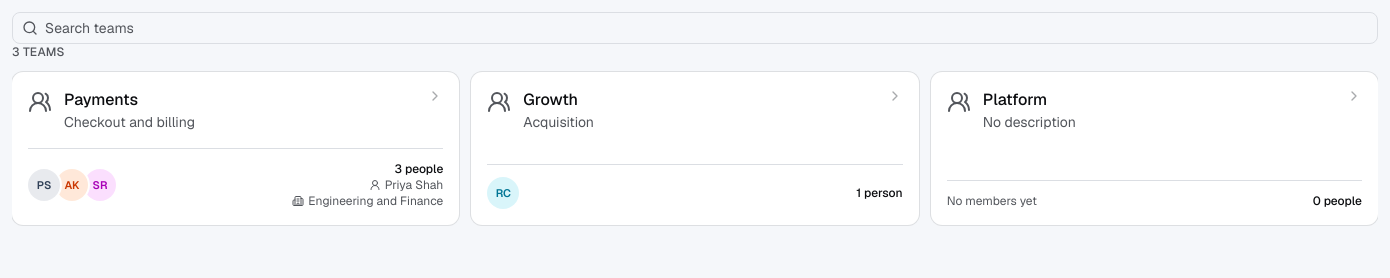
Test case: TeamsDirectory › shows the member count and handles no matches
The width and height of the screenshot is (1390, 278).
Expected: the text "3 people" is shown, top-left (394, 161), bottom-right (443, 177)
Expected: the text "1 person" is shown, top-left (856, 185), bottom-right (903, 201)
Type "zzz" into the search field labelled "Search teams" at (695, 28), box top-left (12, 12), bottom-right (1378, 44)
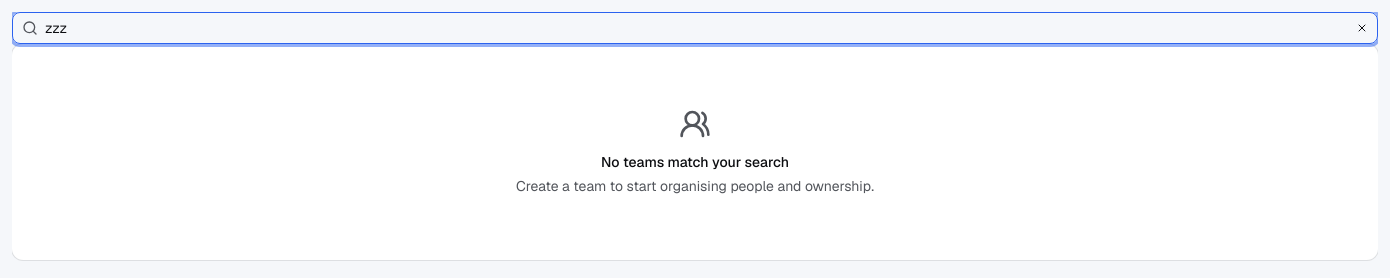
Expected: the text "No teams match your search" is shown, top-left (601, 153), bottom-right (789, 171)
